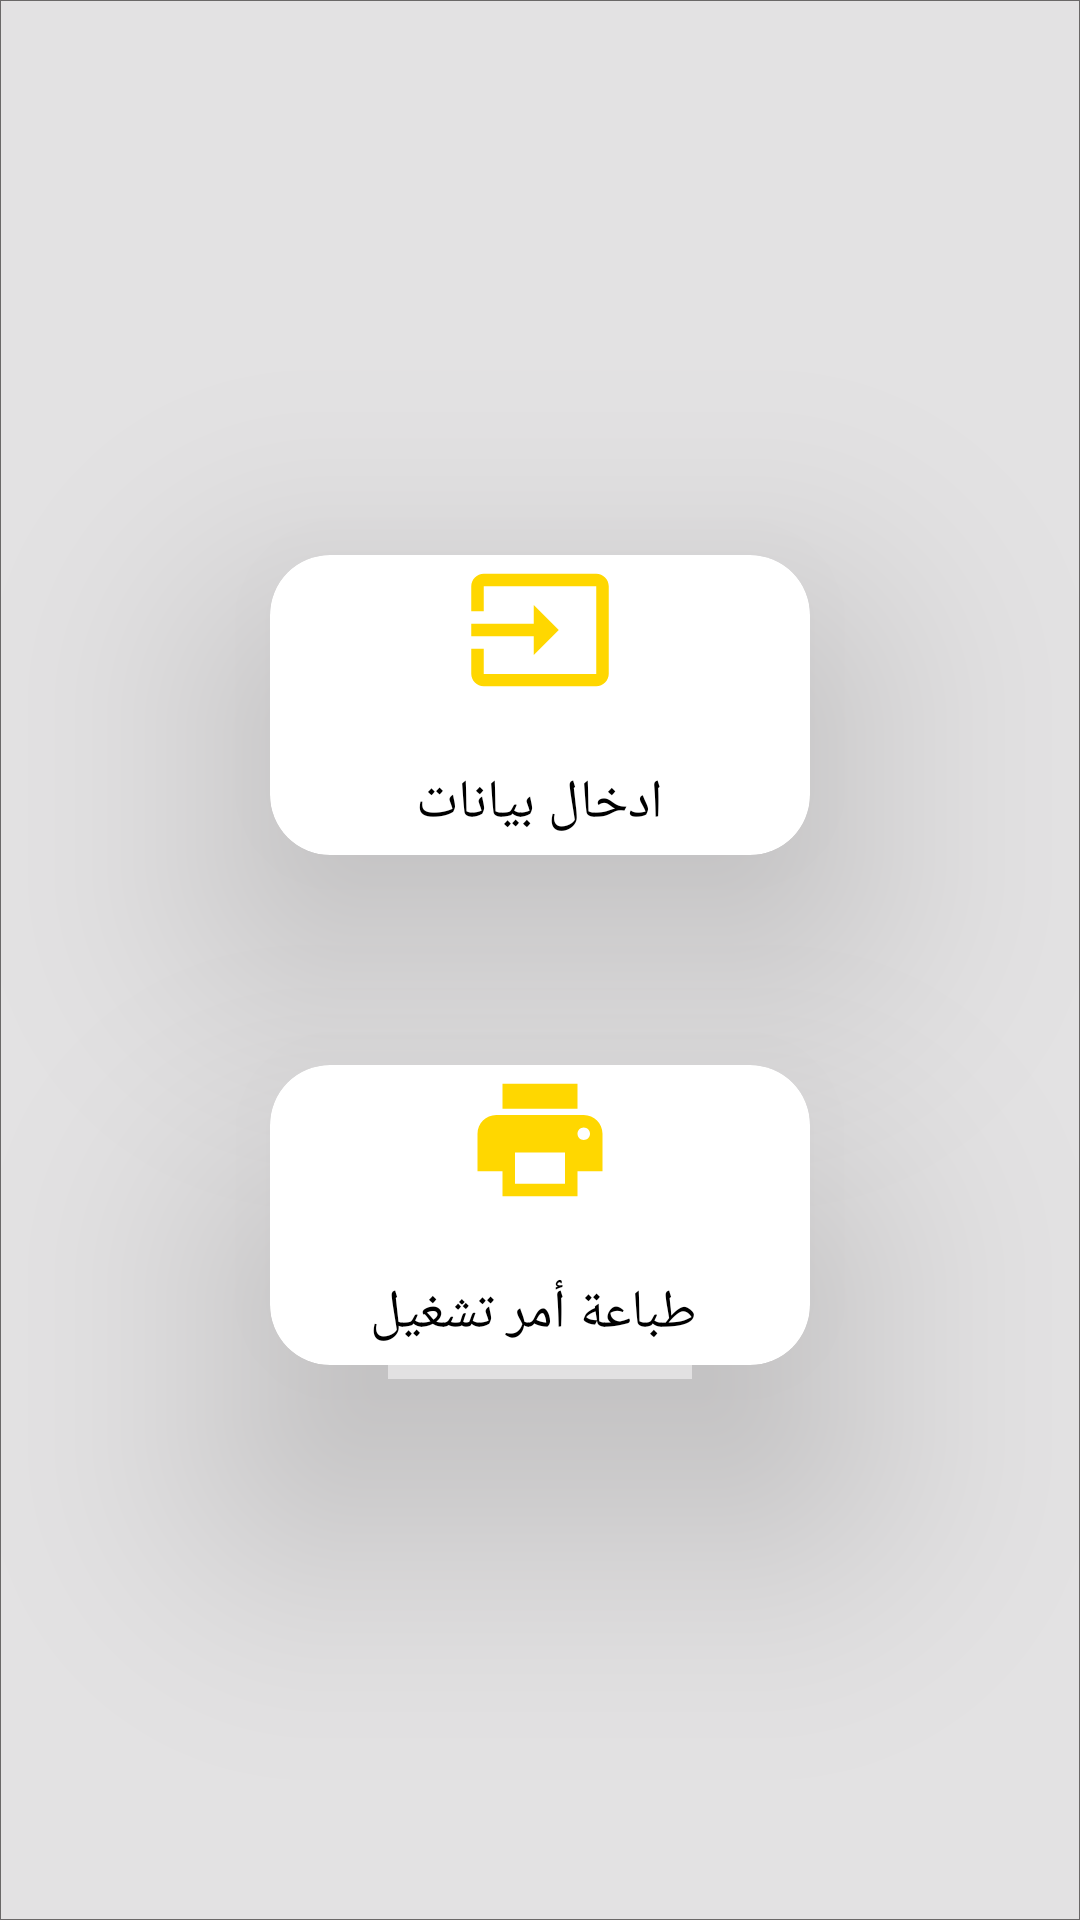

Locate icon controls on the screen. Image size 1080x1920, boxes as BBox(x1, y1, x2, y2).
input: BBox(471, 573, 609, 687)
print: BBox(477, 1083, 603, 1197)
